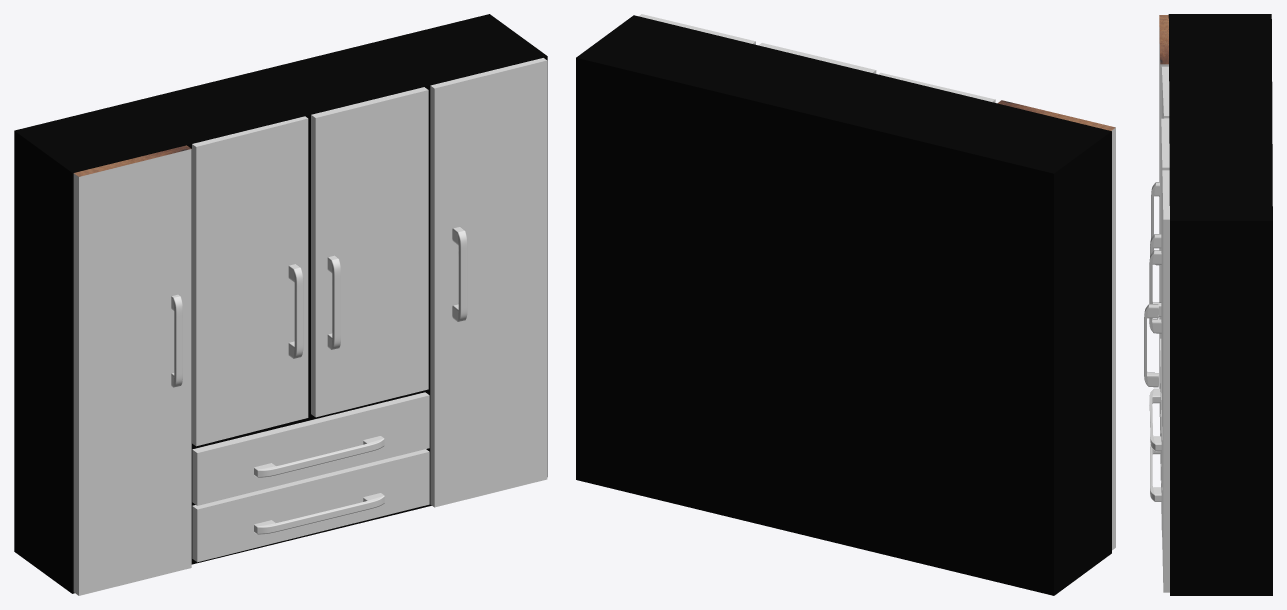
File: the-closet.381abca0.glb
3 renders of one model, left to right at view 1: azimuth 30°, elevation 25°; view 2: azimuth 150°, elevation 25°; view 3: azimuth 270°, elevation 25°, orthographic. The views are drawn at different scales.
Visible parts, largest first — view 1: Cube.003, Cube.018, Cube.015, Cube.016, Cube.017, Cube.019, Cube.020, Cube.025, Cube.024, Cube.023, Cube.021, Cube.022 (+1 smaller); view 2: Cube.003, Cube.018; view 3: Cube.003, Cube.015, Cube.018, Cube.016, Cube.023, Cube.022, Cube.017, Cube.024, Cube.025, Cube.019, Cube.021, Cube.004 (+1 smaller).
Part boxes in pixels (bbox=[...]): Cube.003: bbox=[14, 14, 547, 593]; Cube.018: bbox=[73, 145, 191, 595]; Cube.015: bbox=[430, 58, 547, 507]; Cube.016: bbox=[311, 87, 428, 417]; Cube.017: bbox=[192, 116, 308, 446]; Cube.019: bbox=[192, 392, 429, 505]; Cube.020: bbox=[192, 449, 429, 562]; Cube.025: bbox=[254, 493, 384, 534]; Cube.024: bbox=[254, 436, 384, 477]; Cube.023: bbox=[452, 226, 467, 321]; Cube.021: bbox=[288, 264, 303, 358]; Cube.022: bbox=[327, 255, 340, 349]; Cube.003: bbox=[576, 15, 1111, 595]; Cube.018: bbox=[997, 100, 1115, 550]; Cube.003: bbox=[1168, 14, 1272, 595]; Cube.015: bbox=[1162, 170, 1169, 592]; Cube.018: bbox=[1159, 15, 1168, 416]; Cube.016: bbox=[1161, 118, 1169, 426]; Cube.023: bbox=[1144, 304, 1158, 387]; Cube.022: bbox=[1149, 250, 1161, 333]; Cube.017: bbox=[1161, 66, 1169, 118]; Cube.024: bbox=[1149, 388, 1161, 451]; Cube.025: bbox=[1150, 445, 1161, 501]; Cube.019: bbox=[1160, 338, 1162, 486]; Cube.021: bbox=[1150, 234, 1161, 316]; Cube.004: bbox=[1151, 182, 1159, 265].
Bounding box in the file's own units: 1.76 × 1.48 × 0.4616.
11 materials, 3 textured.
